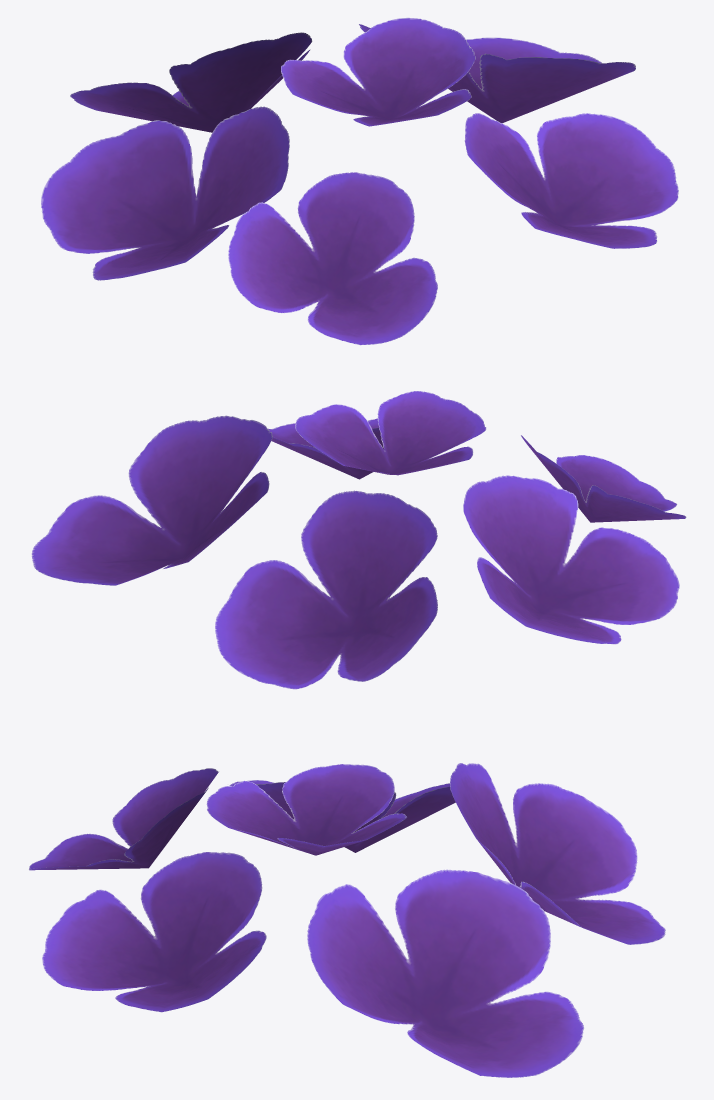
Rendered from Plant_7.gltf.
3 views of the same model, one above another, from view 1: azimuth 30°, elevation 25°; view 2: azimuth 150°, elevation 25°; view 3: azimuth 270°, elevation 25° (orthographic). The views are drawn at different scales.
Parts seen in each view (by area): view 1: Plant_7; view 2: Plant_7; view 3: Plant_7.
Part boxes in pixels (x1,y1,x2,y2): Plant_7: [41, 17, 678, 345]; Plant_7: [31, 391, 686, 689]; Plant_7: [29, 763, 665, 1077].
Size of the model in its own units: 1.05 by 0.2495 by 0.9621.
Materials: 1 (1 with a texture image).
